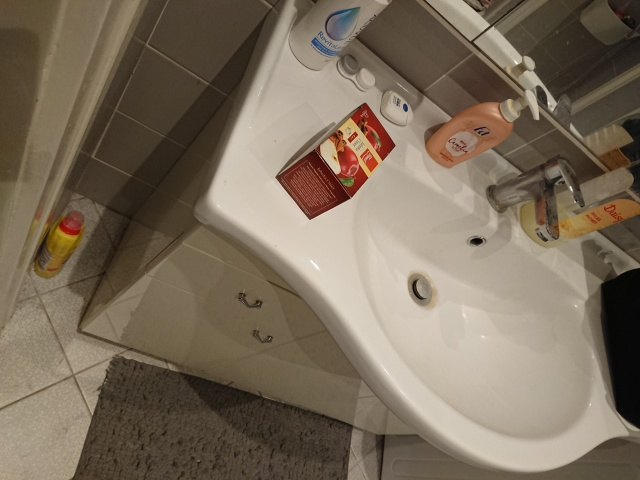Franck Apple Cinnamon Tea 60g: (273, 100, 398, 222)
